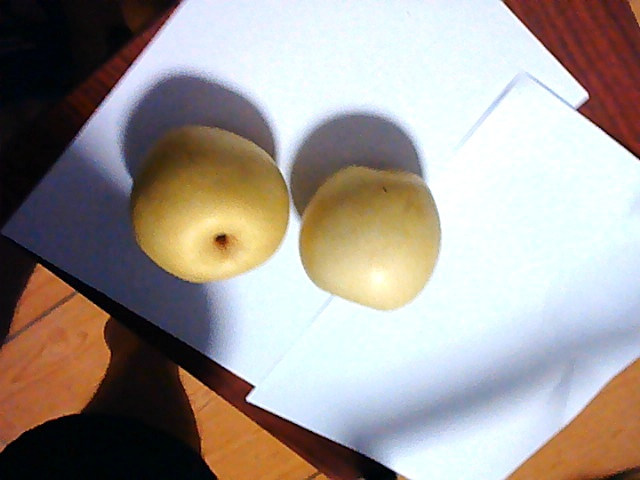pear: (130, 129, 290, 278), (293, 167, 440, 307)
